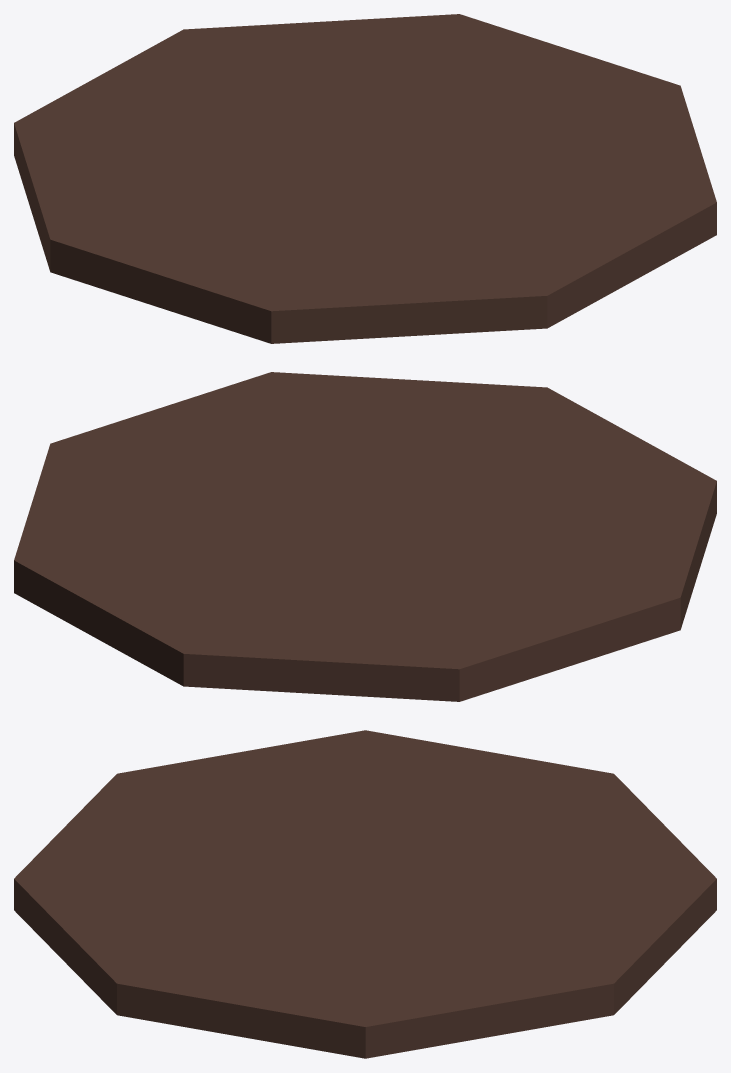
File: Shield_1.fbx
3 renders of one model, top to bottom at view 1: azimuth 30°, elevation 25°; view 2: azimuth 150°, elevation 25°; view 3: azimuth 270°, elevation 25°, orthographic. The views are drawn at different scales.
Visible parts, largest first — view 1: Shield_1; view 2: Shield_1; view 3: Shield_1.
Boxes of the visible parts, box(x1,y1,x2,y2) form: Shield_1: box(14, 14, 716, 343); Shield_1: box(14, 372, 716, 701); Shield_1: box(14, 730, 716, 1058).
Bounding box in the file's own units: 53.51 × 2.67 × 53.51.
